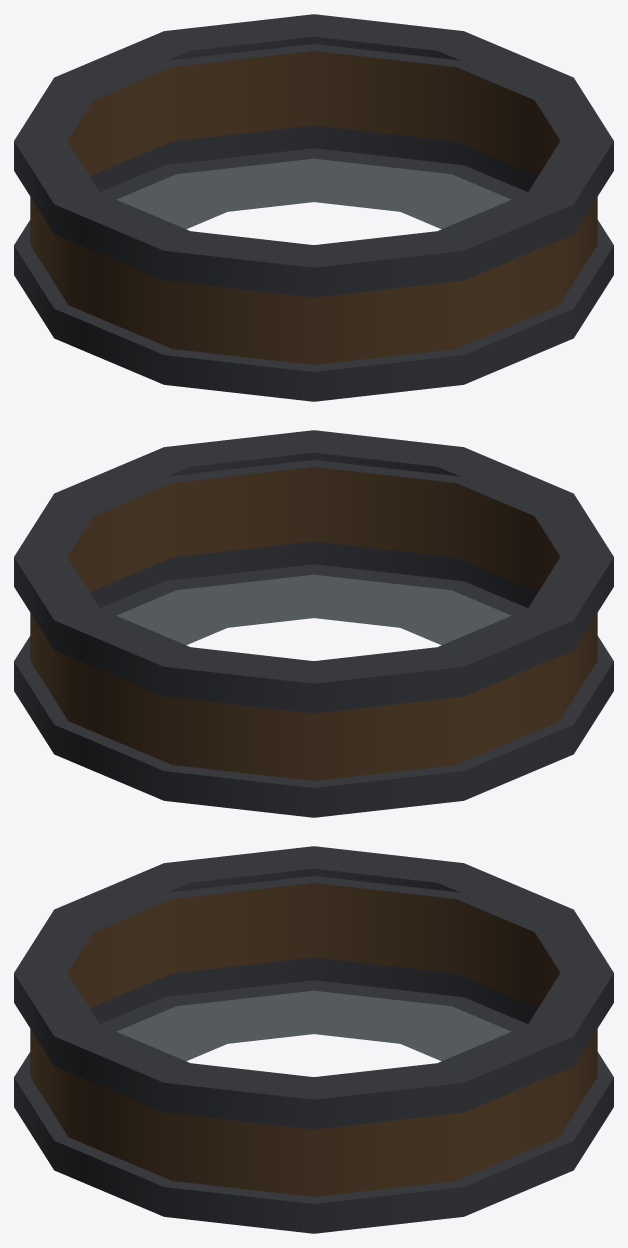
File: fcrcs_coil.obj
The picture shows the model from 3 angles, top to bottom: view 1: azimuth 30°, elevation 25°; view 2: azimuth 150°, elevation 25°; view 3: azimuth 270°, elevation 25°; orthographic projection.
Visible parts, largest first — view 1: fcrcs_coil; view 2: fcrcs_coil; view 3: fcrcs_coil.
Boxes of the visible parts, bbox=[...] form: fcrcs_coil: bbox=[14, 14, 613, 401]; fcrcs_coil: bbox=[14, 430, 613, 817]; fcrcs_coil: bbox=[14, 846, 613, 1233].
Bounding box in the file's own units: 0.73 × 0.18 × 0.73.
